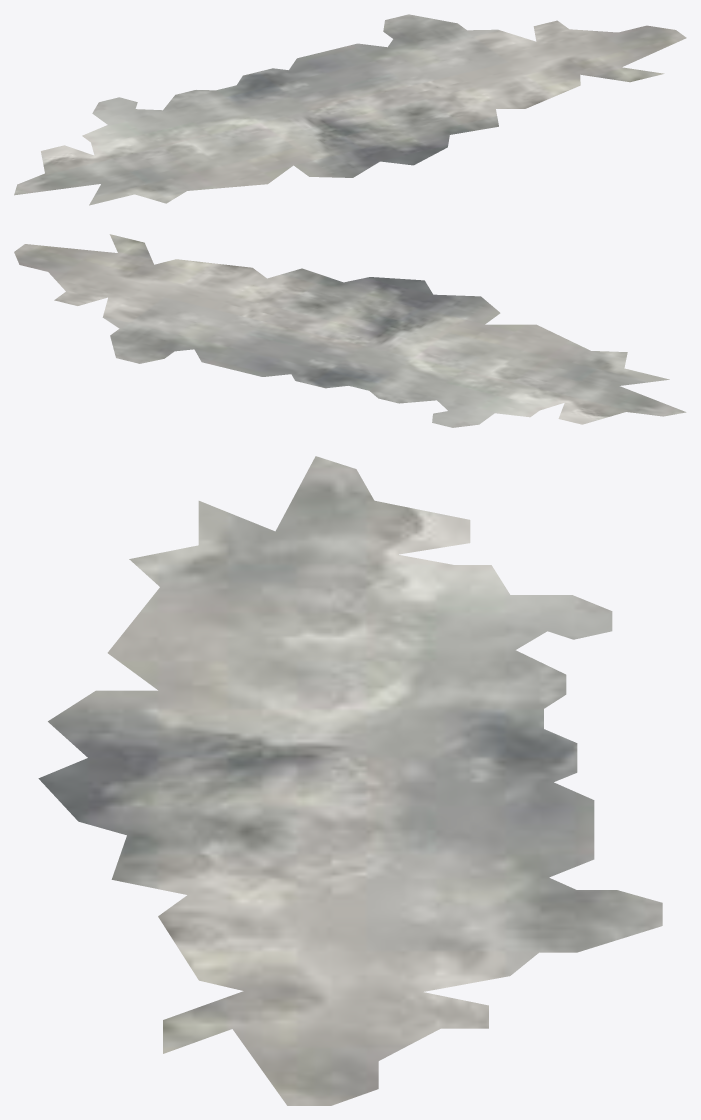
Rendered from oblak_2d.obj.
3 views of the same model, one above another, from view 1: azimuth 30°, elevation 25°; view 2: azimuth 150°, elevation 25°; view 3: azimuth 270°, elevation 25° (orthographic). The views are drawn at different scales.
Visible parts, largest first — view 1: Mesh1 Model; view 2: Mesh1 Model; view 3: Mesh1 Model.
Boxes of the visible parts, left/top/right/bottom form: Mesh1 Model: left=14, top=14, right=686, bottom=205; Mesh1 Model: left=14, top=234, right=686, bottom=427; Mesh1 Model: left=38, top=456, right=662, bottom=1105.
Bounding box in the file's own units: 4.2 × 0 × 1.71.
1 material, 1 textured.
